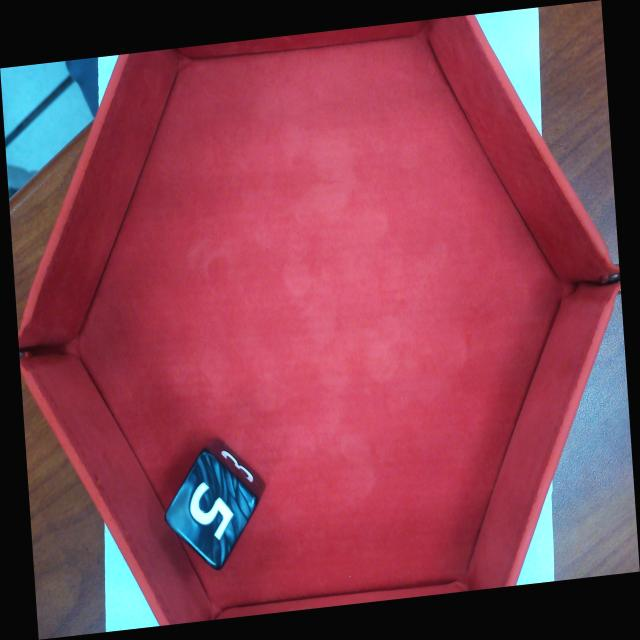dice: (165, 451, 257, 572)
